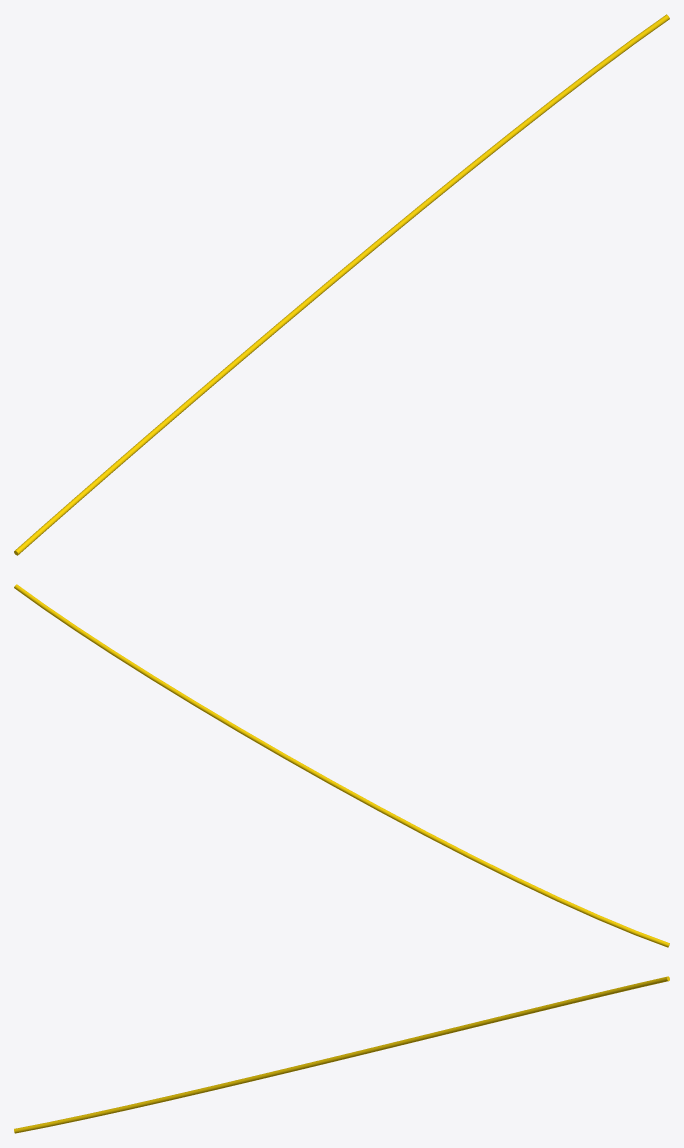
File: Event_420107950_track_11.fbx
3 renders of one model, top to bottom at view 1: azimuth 30°, elevation 25°; view 2: azimuth 150°, elevation 25°; view 3: azimuth 330°, elevation 25°, orthographic. The views are drawn at different scales.
Parts seen in each view (by area): view 1: Model; view 2: Model; view 3: Model.
Boxes of the visible parts, <box> form: Model: <box>14,14,669,555</box>; Model: <box>14,584,669,947</box>; Model: <box>14,976,669,1133</box>.
Size of the model in its own units: 5.72 by 2.38 by 0.9915.
